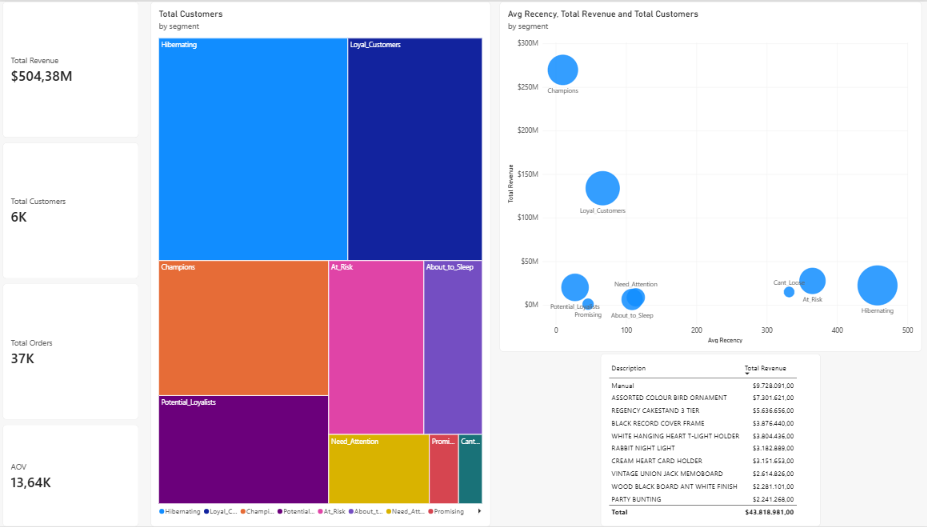

Layout of this report page (visuals, bound fields, positions):
{"tool":"powerbi","page":{"name":"Page 1","canvas":[1920,1080],"ordinal":0},"visuals":[{"type":"cardVisual","fields":{"Data":["_Measures.Total Revenue"]},"box":[10,0,280,280],"z":0},{"type":"cardVisual","fields":{"Data":["_Measures.Total Customers"]},"box":[10,290,280,280],"z":1},{"type":"cardVisual","fields":{"Data":["_Measures.Total Orders"]},"box":[10,580,280,280],"z":2},{"type":"cardVisual","fields":{"Data":["_Measures.AOV"]},"box":[10.3,870.7,280,210],"z":3},{"type":"treemap","fields":{"Group":["rfm_segments.segment"],"Values":["_Measures.Total Customers"]},"box":[314.9,0,699.8,1080.6],"z":4},{"type":"scatterChart","fields":{"Category":["rfm_segments.segment"],"Size":["_Measures.Total Customers"],"X":["_Measures.Avg Recency"],"Y":["_Measures.Total Revenue"]},"box":[1033.3,0,868.6,720.4],"z":5},{"type":"tableEx","fields":{"Values":["clean_retail_data.Description","_Measures.Total Revenue"]},"box":[1241.2,724.5,452.8,356.1],"z":6}]}

Visuals, with their boxes in screenshot pixels (x1, y1, x2, y2), scaled from the page's 1920x1080 canvas onto the 927x527 screenshot:
cardVisual - _Measures.Total Revenue: pyautogui.locateOnScreen(5, 0, 140, 137)
cardVisual - _Measures.Total Customers: pyautogui.locateOnScreen(5, 142, 140, 278)
cardVisual - _Measures.Total Orders: pyautogui.locateOnScreen(5, 283, 140, 420)
cardVisual - _Measures.AOV: pyautogui.locateOnScreen(5, 425, 140, 526)
treemap - rfm_segments.segment x _Measures.Total Customers: pyautogui.locateOnScreen(152, 0, 490, 526)
scatterChart - rfm_segments.segment x _Measures.Total Customers: pyautogui.locateOnScreen(499, 0, 918, 352)
tableEx - clean_retail_data.Description x _Measures.Total Revenue: pyautogui.locateOnScreen(599, 354, 818, 526)
